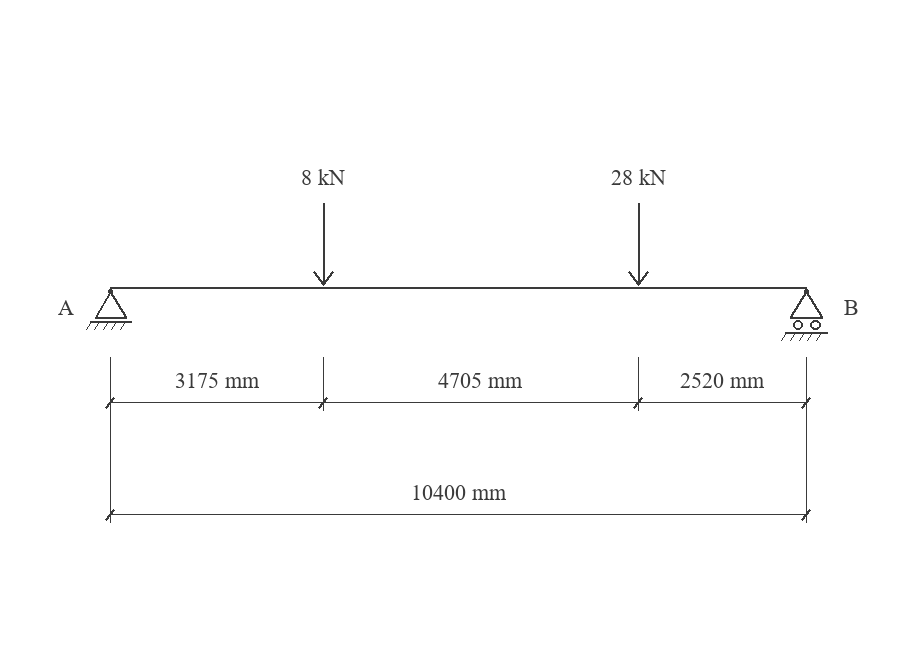pin_support: (86, 289, 132, 330)
point_load: (313, 203, 334, 286), (628, 203, 649, 286)
roller_support: (781, 289, 828, 341)
